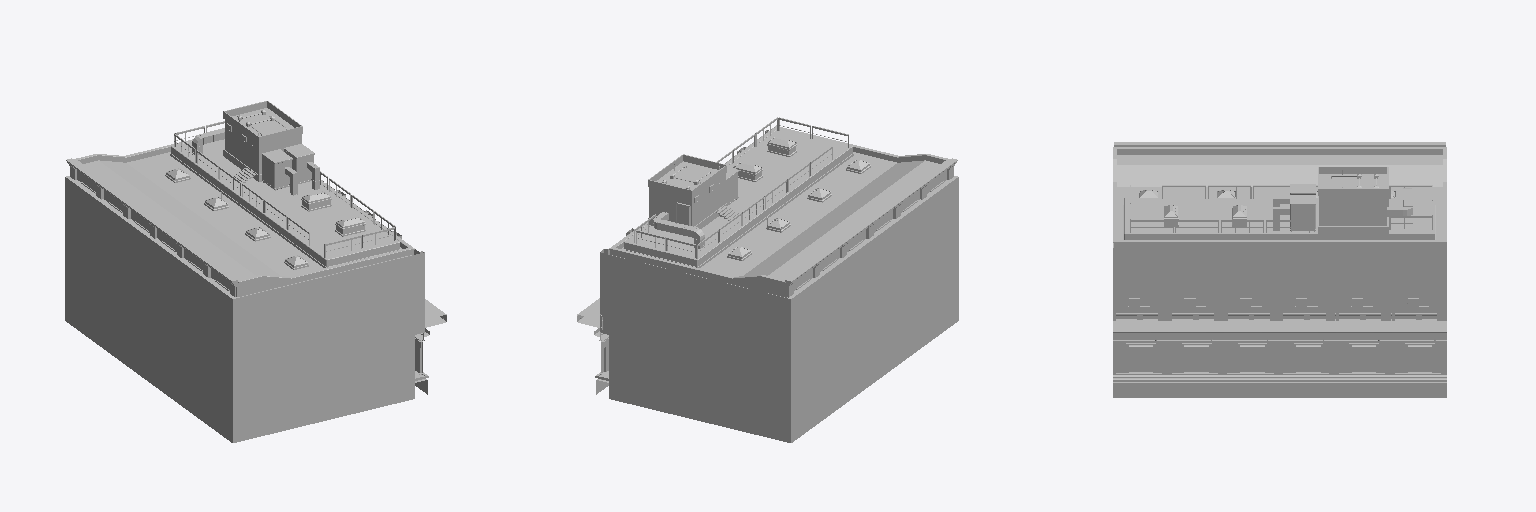
Rendered from four2.obj.
3 renders of one model, left to right at view 1: azimuth 30°, elevation 25°; view 2: azimuth 150°, elevation 25°; view 3: azimuth 270°, elevation 25°, orthographic.
Parts seen in each view (by area): view 1: building roof __Comp9__5, building sides __Comp9__0, building sides __Comp9__1, building facade __Comp9__3 __Repeat9__0 window __Subdiv15__2 oth, building facade __Comp9__3 __Subdiv15__1 downfloor __Repeat9__0 ; view 2: building roof __Comp9__5, building sides __Comp9__2, building sides __Comp9__1, building facade __Comp9__3 window __Repeat9__5 __Subdiv15__2 oth; view 3: building roof __Comp9__5, building facade __Comp9__3 __Subdiv15__1 downfloor window door_N, building facade __Comp9__3 __Subdiv15__1 downfloor window __Repe, building facade __Comp9__3 window __Repeat9__1 __Subdiv15__2 oth, building facade __Comp9__3 window __Repeat9__2 __Subdiv15__2 oth, building facade __Comp9__3 window __Repeat9__4 __Subdiv15__2 oth, building facade __Comp9__3 window __Repeat9__3 __Subdiv15__2 oth, building facade __Comp9__3 __Repeat9__0 window __Subdiv15__2 oth, building facade __Comp9__3 window __Repeat9__5 __Subdiv15__2 oth, building facade __Comp9__3 __Subdiv15__1 downfloor __Repeat9__0 , building facade __Comp9__3 window __Repeat9__1 Left_NOK __Subdiv, building facade __Comp9__3 window __Repeat9__2 Left_NOK __Subdiv (+4 smaller).
Boxes of the visible parts, <box> form: building roof __Comp9__5: <box>66,101,414,298</box>; building sides __Comp9__0: <box>233,256,414,442</box>; building sides __Comp9__1: <box>65,177,232,442</box>; building facade __Comp9__3 __Repeat9__0 window __Subdiv15__2 oth: <box>396,232,424,335</box>; building facade __Comp9__3 __Subdiv15__1 downfloor __Repeat9__0 : <box>415,299,446,380</box>; building roof __Comp9__5: <box>609,117,957,298</box>; building sides __Comp9__2: <box>609,255,790,442</box>; building sides __Comp9__1: <box>791,177,958,442</box>; building facade __Comp9__3 window __Repeat9__5 __Subdiv15__2 oth: <box>600,232,629,334</box>; building roof __Comp9__5: <box>1113,142,1446,247</box>; building facade __Comp9__3 __Subdiv15__1 downfloor window door_N: <box>1168,339,1446,381</box>; building facade __Comp9__3 __Subdiv15__1 downfloor window __Repe: <box>1168,313,1446,340</box>; building facade __Comp9__3 window __Repeat9__1 __Subdiv15__2 oth: <box>1168,248,1223,320</box>; building facade __Comp9__3 window __Repeat9__2 __Subdiv15__2 oth: <box>1224,248,1279,320</box>; building facade __Comp9__3 window __Repeat9__4 __Subdiv15__2 oth: <box>1336,248,1391,320</box>; building facade __Comp9__3 window __Repeat9__3 __Subdiv15__2 oth: <box>1280,248,1335,320</box>; building facade __Comp9__3 __Repeat9__0 window __Subdiv15__2 oth: <box>1113,248,1167,320</box>; building facade __Comp9__3 window __Repeat9__5 __Subdiv15__2 oth: <box>1392,248,1446,320</box>; building facade __Comp9__3 __Subdiv15__1 downfloor __Repeat9__0 : <box>1113,313,1167,381</box>; building facade __Comp9__3 window __Repeat9__1 Left_NOK __Subdiv: <box>1168,382,1223,397</box>; building facade __Comp9__3 window __Repeat9__2 Left_NOK __Subdiv: <box>1224,382,1279,397</box>.
Bounding box in the file's own units: 3881 × 3471 × 5255.